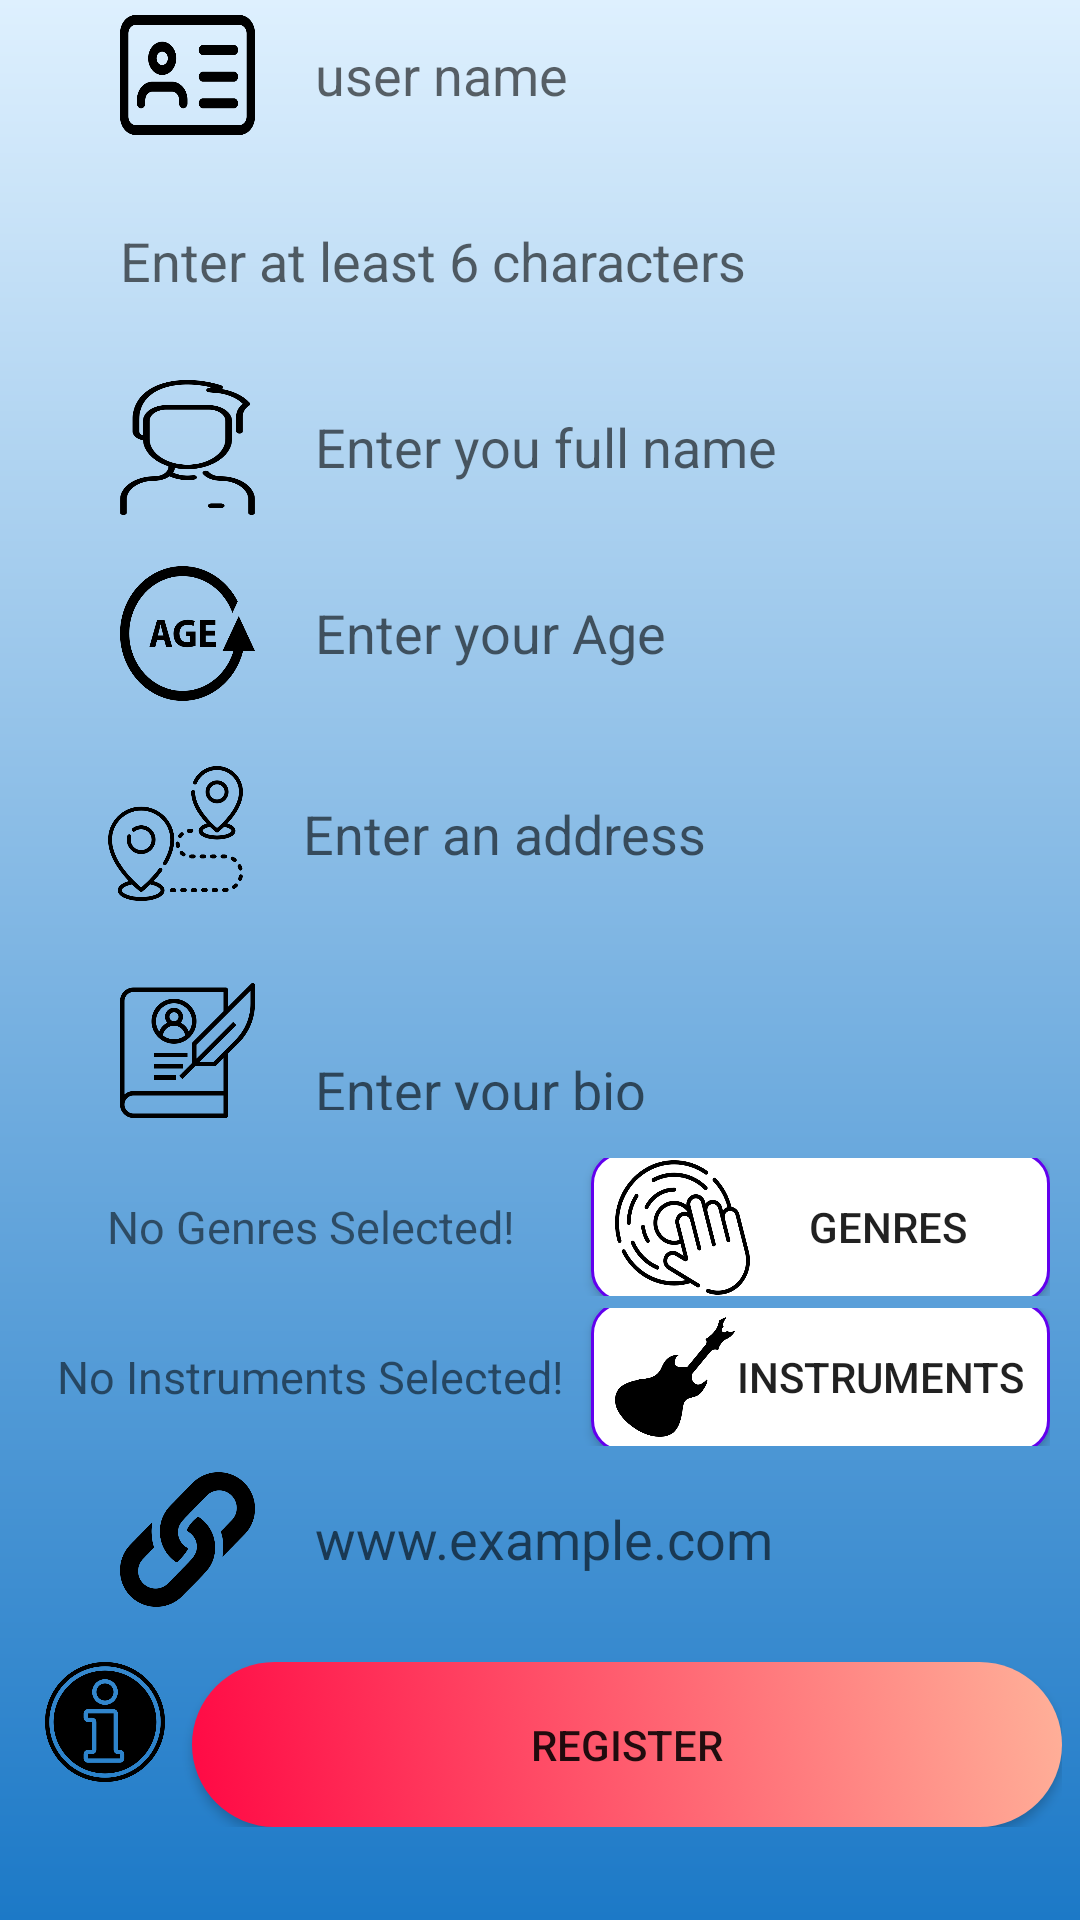

Icon click points for this 1080 x 1920 phone screenshot, format point (x, y):
information: point (105, 1722)
